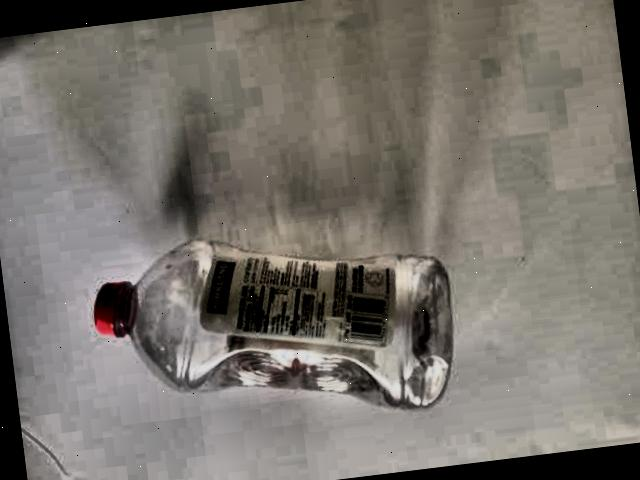Bottles: (80, 200, 526, 460)
